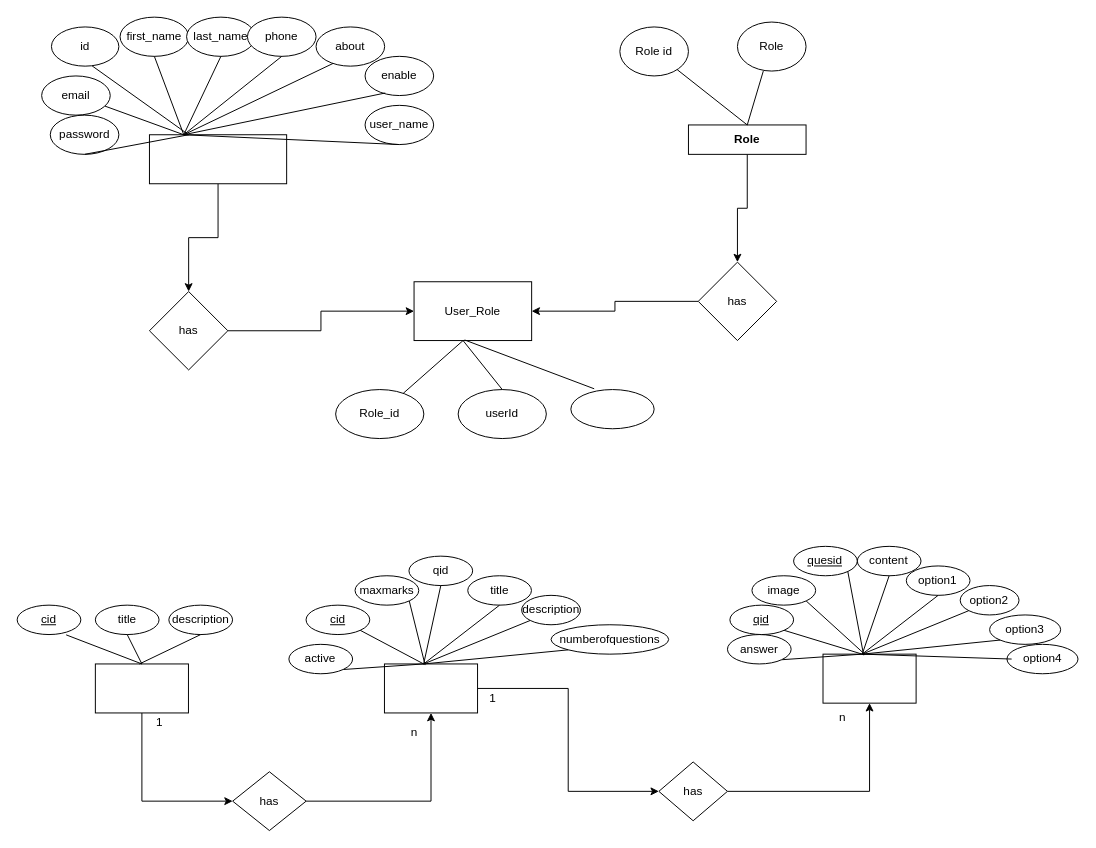
Image size: 1096x848. Some labels were removed from this diagram. The centre of each missing label's shape, as x and y in pixels:
"Category" belongs at pixel 141 688.
"Questions" belongs at pixel 869 678.
"Quiz" belongs at pixel 430 688.
"roleid" belongs at pixel 612 409.
"User Entity" belongs at pixel 217 159.
